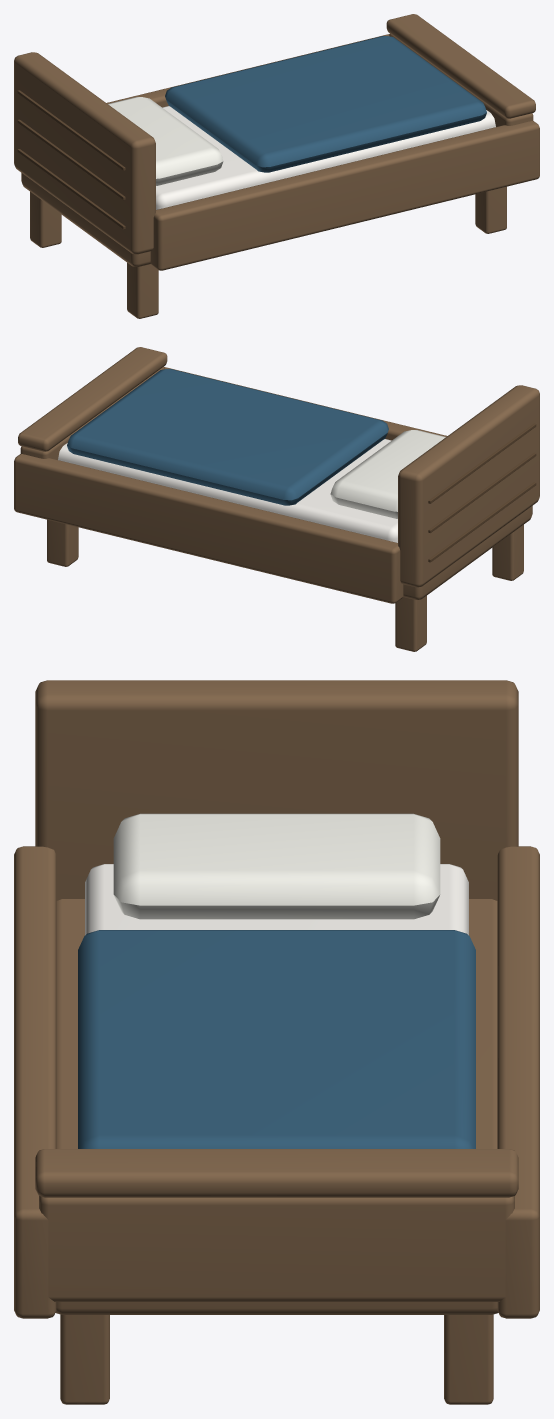
Rendered from bed.glb.
3 renders of one model, top to bottom at view 1: azimuth 30°, elevation 25°; view 2: azimuth 150°, elevation 25°; view 3: azimuth 270°, elevation 25°, orthographic. The views are drawn at different scales.
Visible parts, largest first — view 1: SM_Bed_Slat.001; view 2: SM_Bed_Slat.001; view 3: SM_Bed_Slat.001.
Part boxes in pixels (x1,y1,x2,y2): SM_Bed_Slat.001: (14, 14, 539, 318); SM_Bed_Slat.001: (14, 347, 539, 651); SM_Bed_Slat.001: (14, 680, 539, 1404).
Size of the model in its own units: 2.15 by 0.9294 by 1.22.
